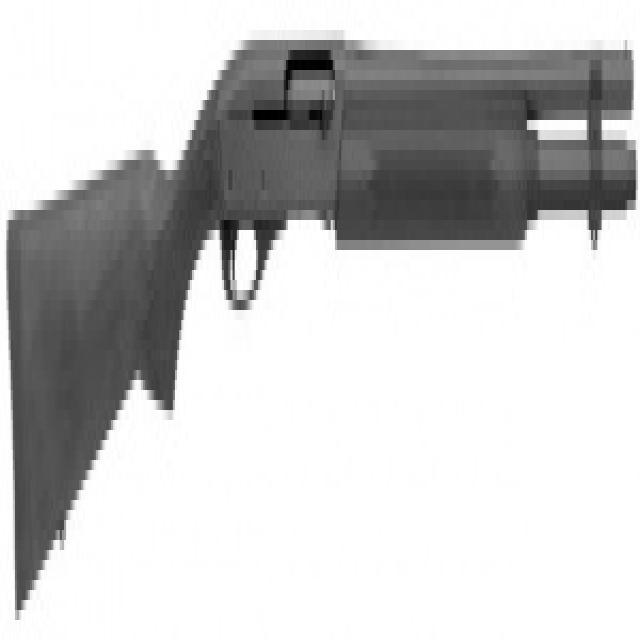rifle: (5, 21, 640, 621)
